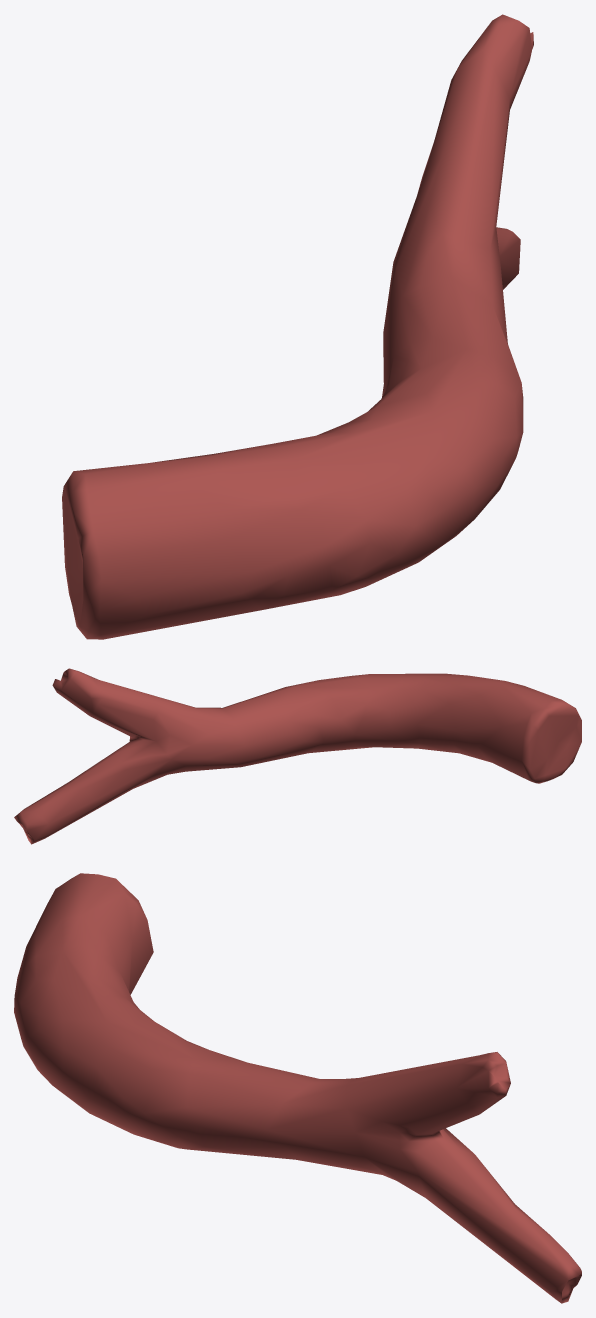
File: FMA14336.glb
3 views of the same model, one above another, from view 1: azimuth 30°, elevation 25°; view 2: azimuth 150°, elevation 25°; view 3: azimuth 270°, elevation 25° (orthographic). The views are drawn at different scales.
Visible parts, largest first — view 1: FMA14336; view 2: FMA14336; view 3: FMA14336.
Part boxes in pixels (x1,y1,x2,y2): FMA14336: (62,14,533,639); FMA14336: (14,668,581,844); FMA14336: (14,873,581,1303).
Bounding box in the file's own units: 0.0634 × 0.0248 × 0.0538.
